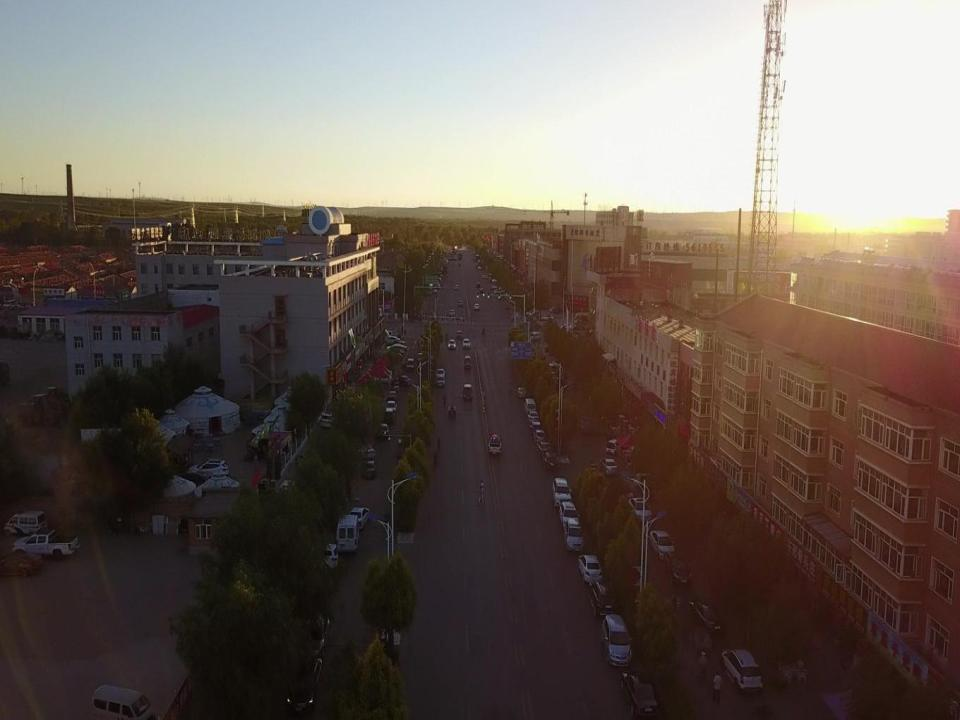bus: (336, 516, 359, 553), (574, 310, 597, 324), (490, 279, 497, 288)
car: (282, 660, 329, 710), (622, 668, 662, 720), (721, 646, 764, 694), (298, 604, 330, 660), (600, 613, 632, 667), (691, 597, 726, 636), (588, 577, 622, 616), (0, 550, 47, 578), (664, 550, 693, 586), (651, 529, 678, 564), (188, 460, 228, 483), (198, 476, 239, 496), (563, 516, 585, 552), (577, 554, 603, 582), (553, 475, 573, 510), (273, 476, 295, 505), (628, 495, 651, 522), (539, 443, 557, 470), (348, 506, 370, 527), (558, 502, 576, 527), (323, 543, 338, 570), (601, 456, 618, 476), (488, 433, 502, 455), (374, 422, 390, 441), (578, 416, 595, 433), (386, 342, 410, 354), (605, 437, 620, 454), (359, 460, 374, 476), (461, 382, 472, 401), (525, 396, 537, 413), (530, 409, 542, 426), (383, 401, 397, 415), (362, 442, 376, 456), (530, 328, 544, 342), (435, 372, 447, 388), (386, 336, 406, 344), (540, 312, 556, 322), (532, 426, 544, 439), (321, 414, 333, 426), (385, 389, 397, 401), (560, 319, 573, 330), (435, 365, 445, 379), (398, 373, 412, 383), (447, 337, 459, 348), (530, 311, 546, 319), (405, 357, 414, 371), (462, 357, 472, 369), (548, 363, 559, 373), (518, 385, 528, 395), (524, 310, 538, 317), (462, 338, 470, 350), (473, 301, 482, 311), (456, 330, 464, 340), (428, 287, 438, 295), (452, 283, 460, 291), (449, 310, 457, 316), (457, 299, 463, 306), (494, 290, 503, 294), (480, 287, 487, 292), (476, 280, 480, 286)
truck: (12, 531, 78, 560)
van: (92, 684, 155, 720), (1, 510, 48, 539)
